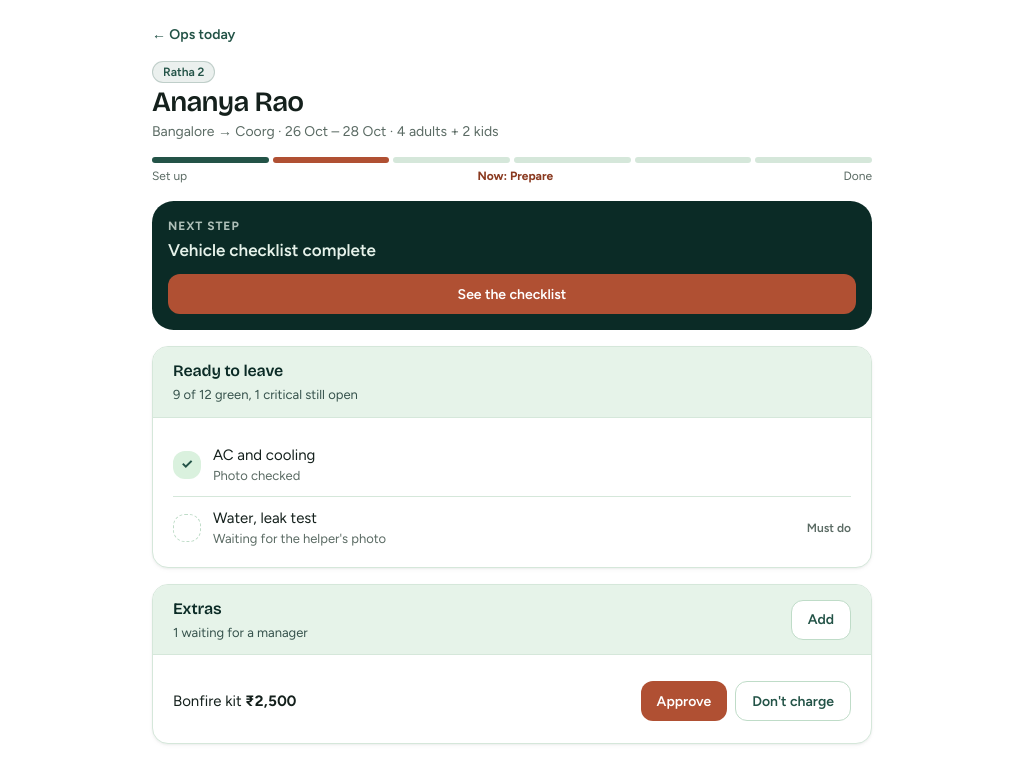
Test: Trip file › shows the next step, the checklist, money and lets a manager approve an extra
This screenshot has width=1024, height=758.
Check: the heading "Ananya Rao" is shown, box [152,85,303,119]
Check: the button "See the checklist" is shown, box [168,274,856,314]
Click the button "Approve". click: (684, 701)
box: [641,681,727,721]
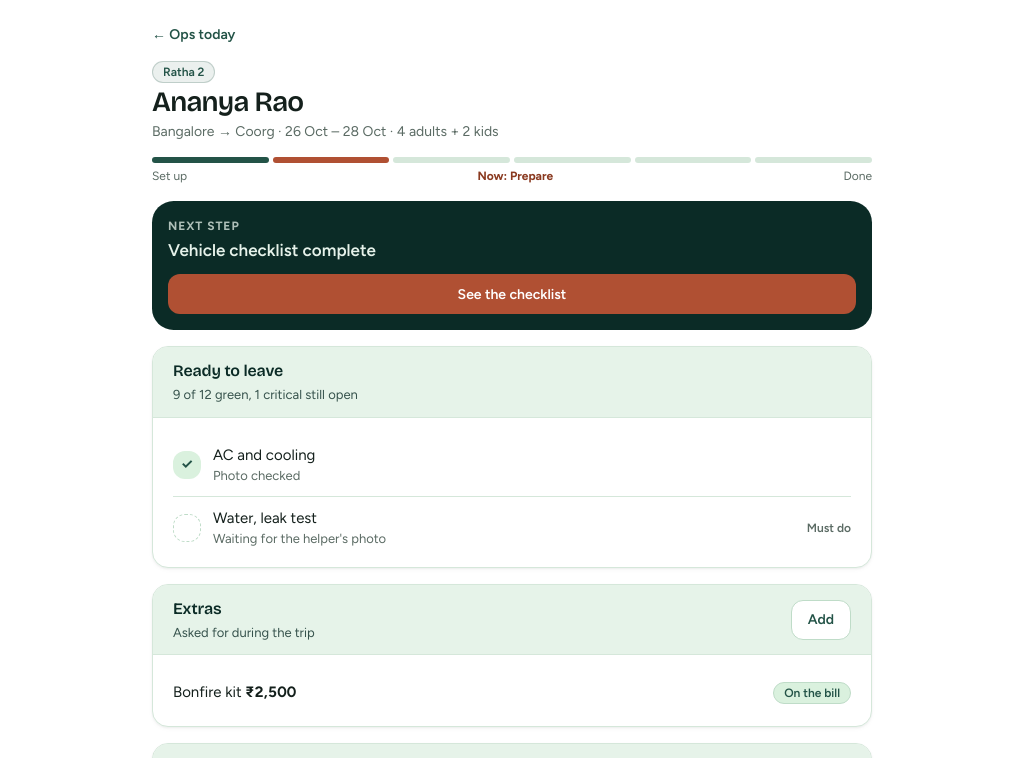
Check: the text "On the bill" is shown, box [773,682,851,704]
